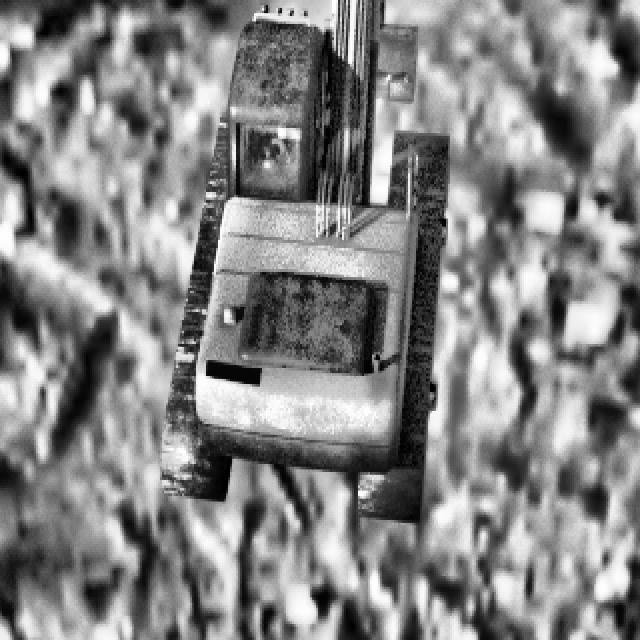excavator: (158, 0, 448, 523)
